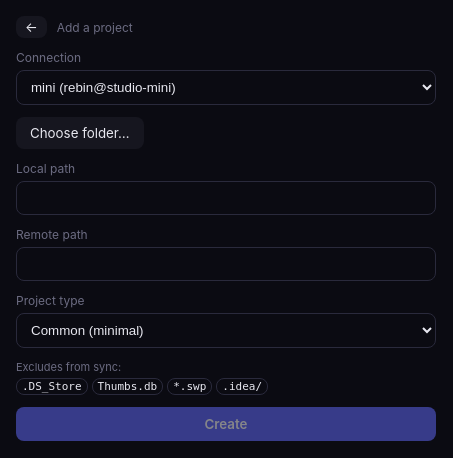
Test case: AddProject › falls back to the SSH user when the computer name is unavailable
Click the button with test id "pick-folder". click: (80, 133)
box: [16,117,144,149]
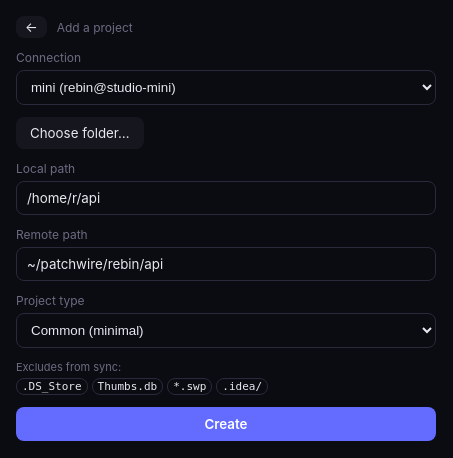
Check: the field with test id "remote-path" holds "~/patchwire/rebin/api", box [16,247,436,281]
